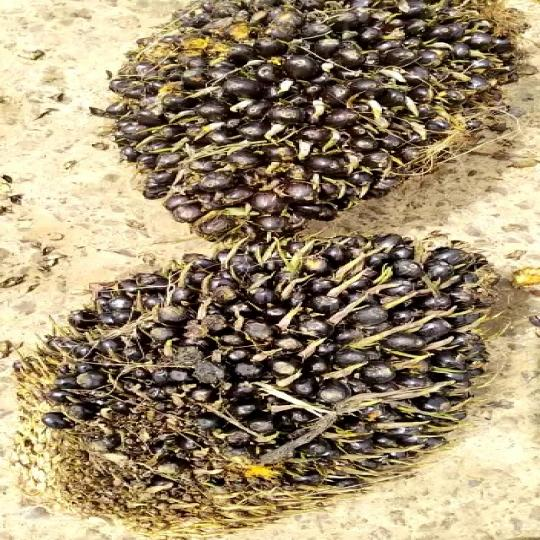mentah: (24, 222, 503, 540), (104, 0, 538, 246)
